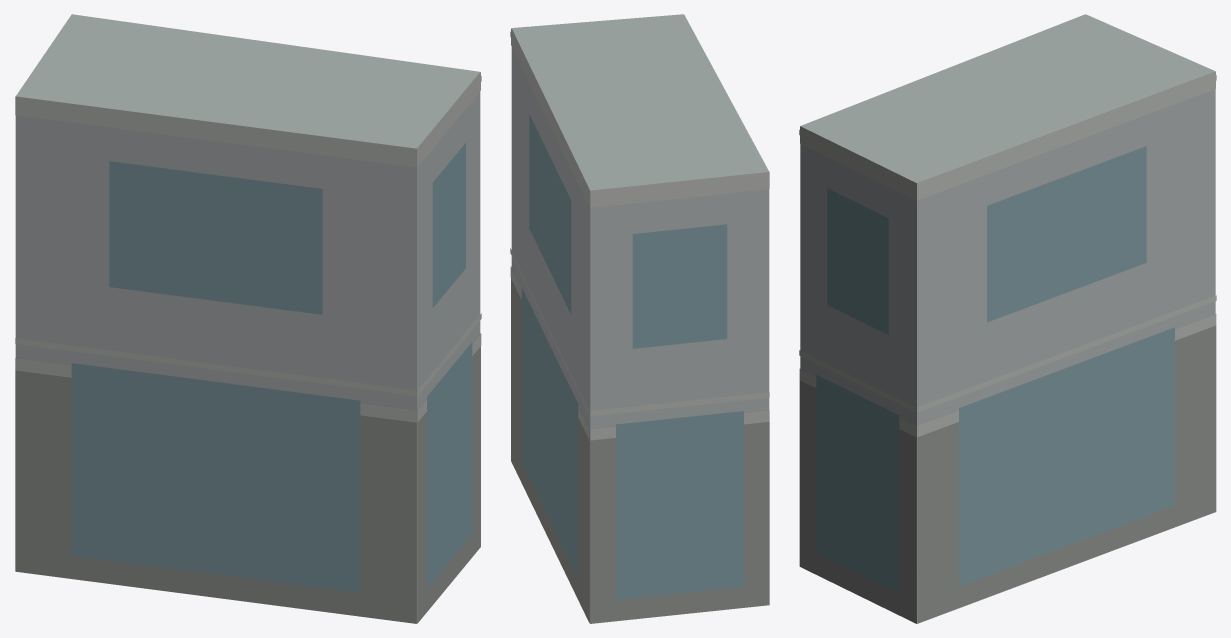
Rendered from survey-upis-32833377.glb.
3 renders of one model, left to right at view 1: azimuth 30°, elevation 25°; view 2: azimuth 150°, elevation 25°; view 3: azimuth 270°, elevation 25°, orthographic. The views are drawn at different scales.
Visible parts, largest first — view 1: survey-upis-32833377.tmp; view 2: survey-upis-32833377.tmp; view 3: survey-upis-32833377.tmp.
Boxes of the visible parts, x1,y1,x2,y2 form: survey-upis-32833377.tmp: (15,14,481,623); survey-upis-32833377.tmp: (510,14,769,623); survey-upis-32833377.tmp: (799,14,1216,623).
Bounding box in the file's own units: 5.04 × 6.1 × 5.24.
